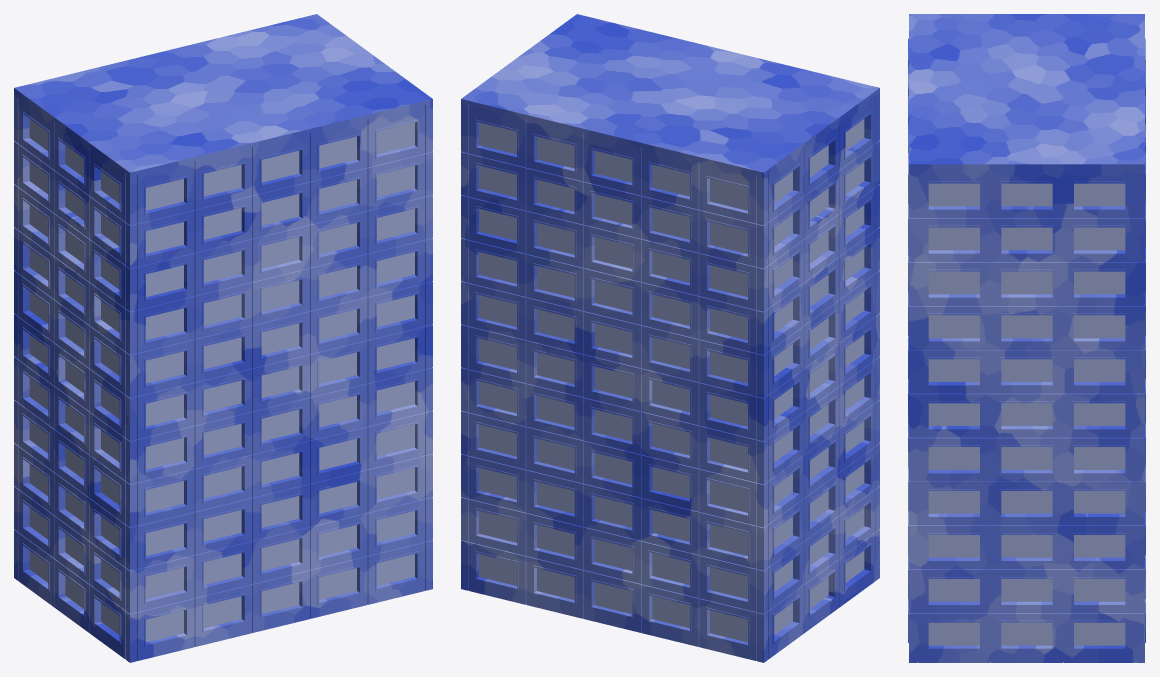
The model's file is Building_01_Blue.fbx.
The picture shows the model from 3 angles, left to right: view 1: azimuth 30°, elevation 25°; view 2: azimuth 150°, elevation 25°; view 3: azimuth 270°, elevation 25°; orthographic projection.
Parts seen in each view (by area): view 1: Building01_out, Building01_window; view 2: Building01_out, Building01_window; view 3: Building01_out, Building01_window.
Part boxes in pixels (x1,y1,x2,y2): Building01_out: (14, 14, 432, 662); Building01_window: (29, 119, 414, 642); Building01_out: (461, 14, 879, 662); Building01_window: (479, 119, 864, 642); Building01_out: (908, 14, 1145, 662); Building01_window: (928, 183, 1125, 645).
Size of the model in its own units: 1429 by 2200 by 950.
